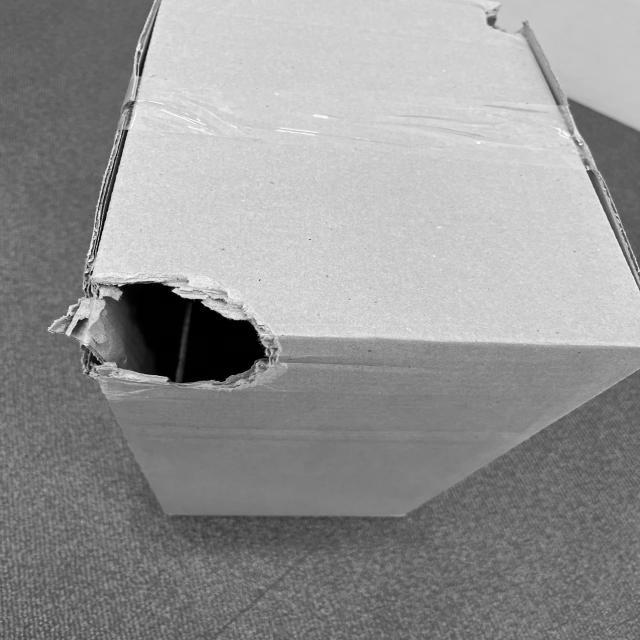hole: (67, 280, 281, 398)
